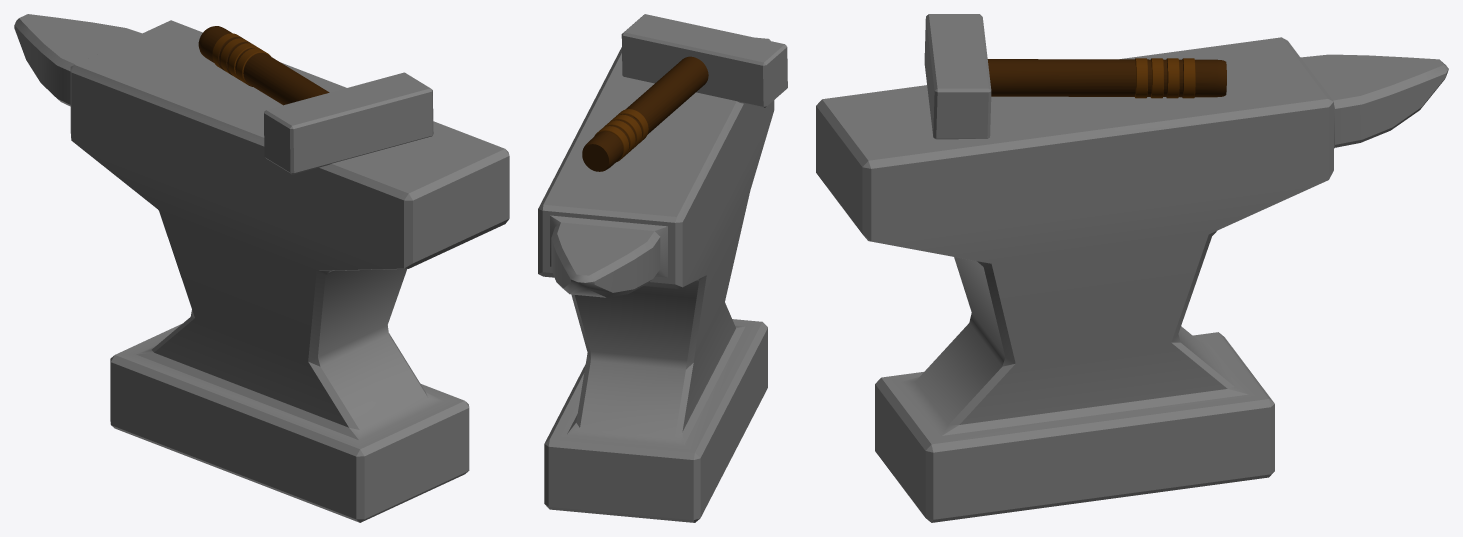
File: uploads_files_3237429_Anvil+and+Hammer.fbx
3 renders of one model, left to right at view 1: azimuth 30°, elevation 25°; view 2: azimuth 150°, elevation 25°; view 3: azimuth 270°, elevation 25°, orthographic. The views are drawn at different scales.
Visible parts, largest first — view 1: Cube.1244, Cube.1245; view 2: Cube.1244, Cube.1245; view 3: Cube.1244, Cube.1245.
Part boxes in pixels (box(x1,y1,x2,y2)): Cube.1244: box(14, 14, 509, 522); Cube.1245: box(198, 26, 433, 174); Cube.1244: box(538, 37, 774, 522); Cube.1245: box(582, 14, 787, 171); Cube.1244: box(816, 37, 1448, 522); Cube.1245: box(924, 14, 1226, 139).
Size of the model in its own units: 165 by 252 by 345.
